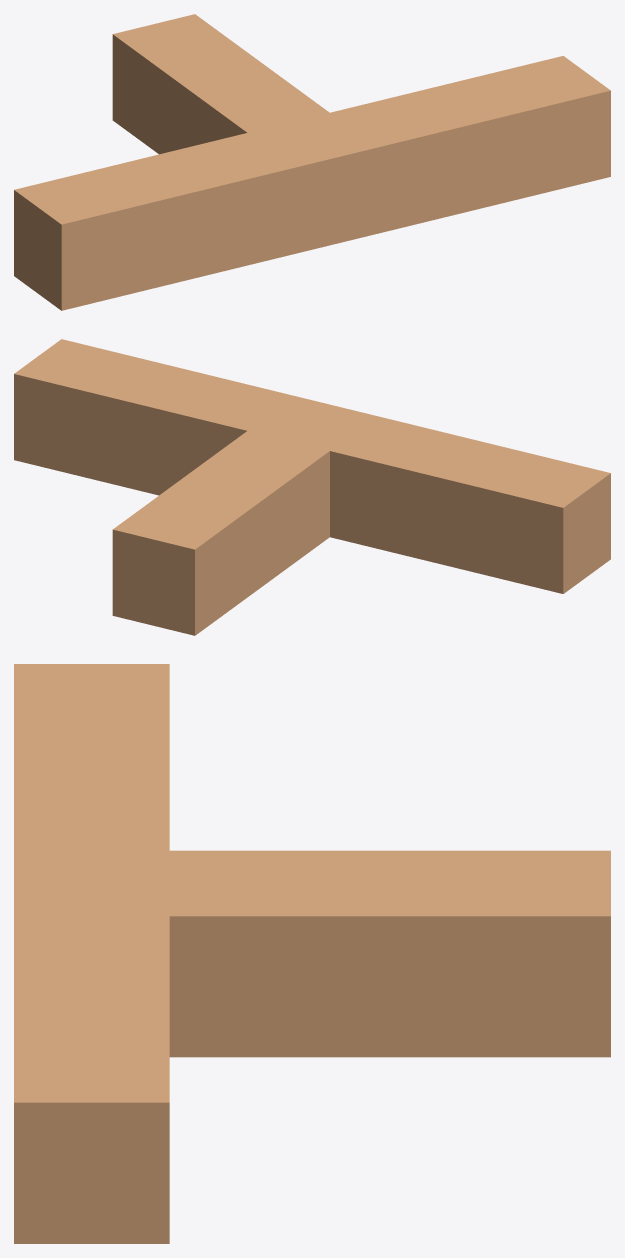
The model's file is Prop_Water_AMF_PipeTee_V1.glb.
3 renders of one model, top to bottom at view 1: azimuth 30°, elevation 25°; view 2: azimuth 150°, elevation 25°; view 3: azimuth 270°, elevation 25°, orthographic. The views are drawn at different scales.
Parts seen in each view (by area): view 1: Prop_Water_AMF_PipeTee_V1; view 2: Prop_Water_AMF_PipeTee_V1; view 3: Prop_Water_AMF_PipeTee_V1.
Part boxes in pixels (x1,y1,x2,y2): Prop_Water_AMF_PipeTee_V1: (14,14,610,310); Prop_Water_AMF_PipeTee_V1: (14,339,610,635); Prop_Water_AMF_PipeTee_V1: (14,664,610,1243).
Size of the model in its own units: 1 by 0.15 by 0.575.
